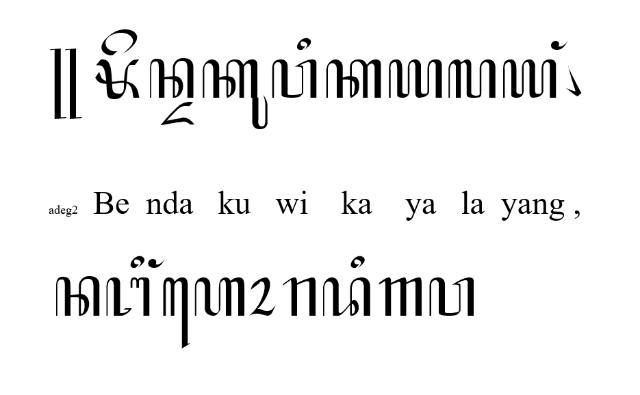B: (94, 59, 140, 100)
_d: (160, 101, 194, 125)
adeg2: (49, 48, 82, 120)
d: (322, 277, 372, 317)
e: (101, 28, 137, 56)
e1: (162, 277, 190, 349)
g: (379, 277, 423, 317)
h: (194, 278, 244, 316)
i: (296, 37, 312, 51), (350, 255, 366, 269), (130, 256, 144, 268)
k: (326, 58, 382, 98)
kom: (566, 65, 580, 97)
ku: (202, 58, 268, 130)
l: (448, 59, 497, 99)
n: (56, 276, 100, 318), (150, 58, 194, 98)
ng: (550, 40, 568, 50), (148, 260, 166, 268)
nga: (106, 276, 150, 318)
o: (248, 277, 276, 317)
r: (282, 278, 316, 316)
w: (271, 59, 317, 99), (429, 277, 475, 317)
y: (388, 59, 444, 99), (502, 59, 556, 100)
